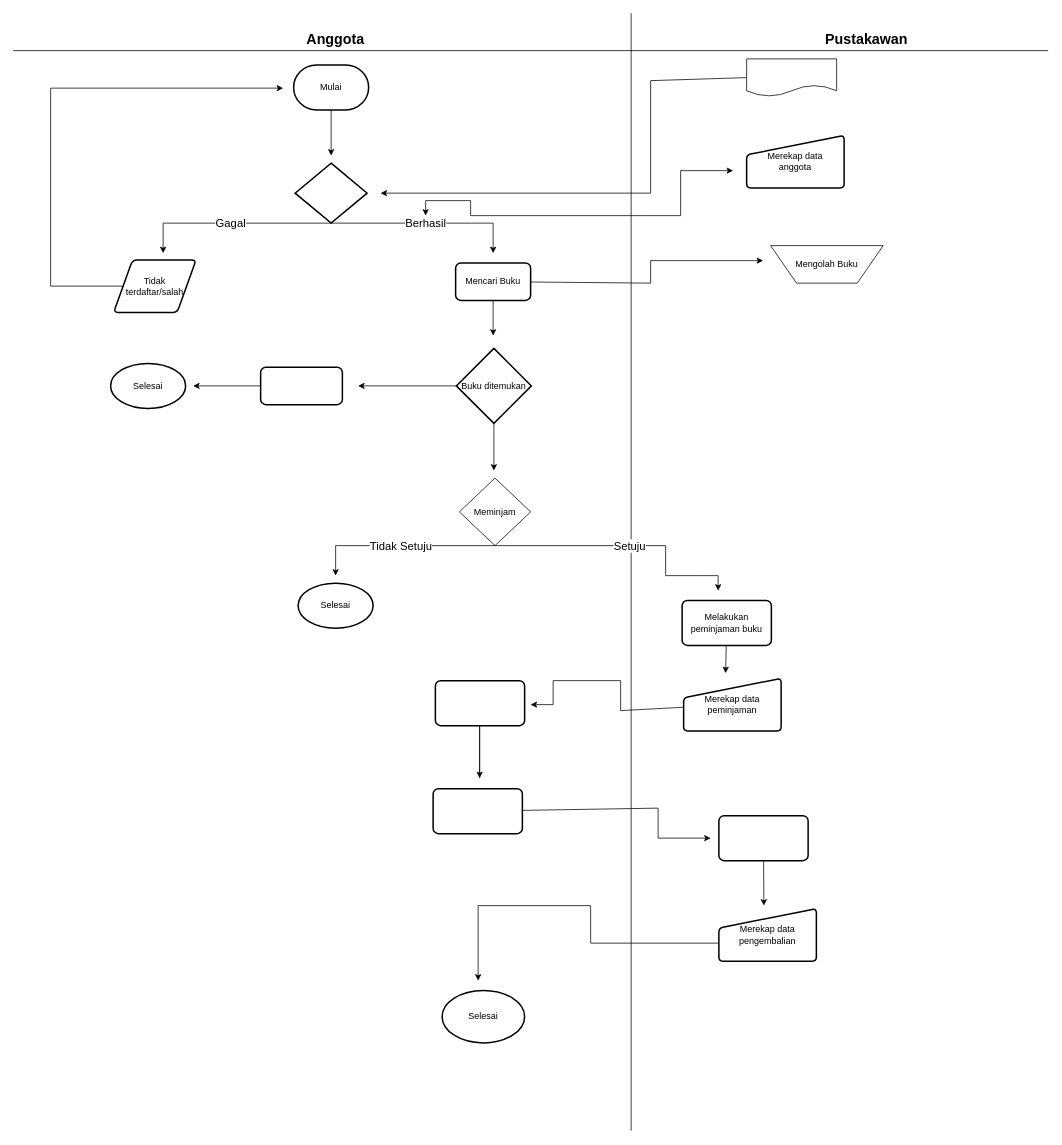
Image size: 1062x1145. Some labels were removed from this diagram. The shapes that lost their labels are listed below. From the top down, each one's centre as x and y in pixels, then its label:
(791,77): Data Anggota
(331,193): Login
(301,385): Membaca
(479,703): Menggunakan buku
(477,811): Mengembalikan buku
(763,837): Menyetujui pengembalian
